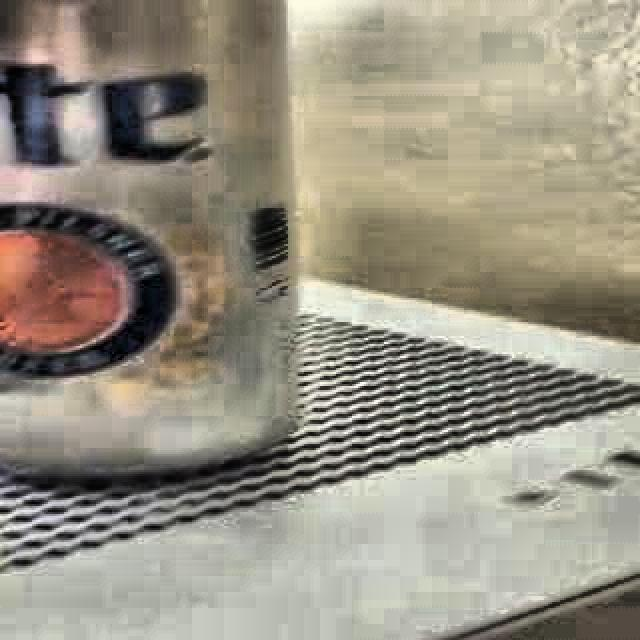metal: (0, 0, 326, 490)
